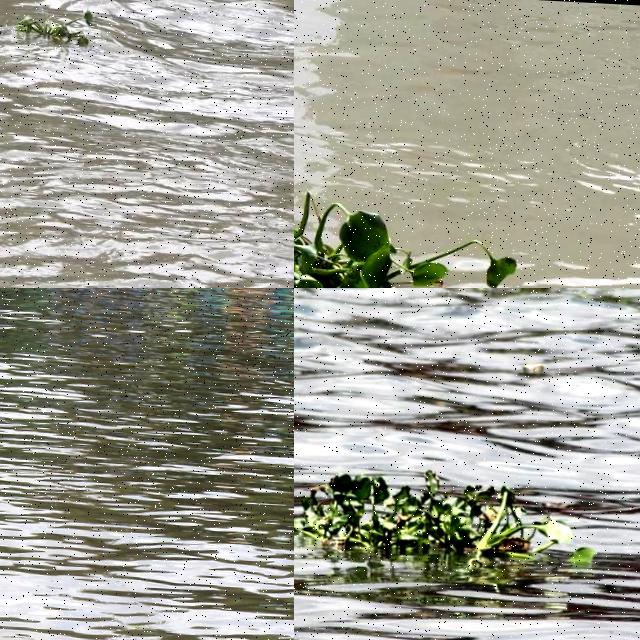water-hyacinth: (295, 460, 576, 571), (295, 174, 555, 289), (7, 1, 101, 56)
